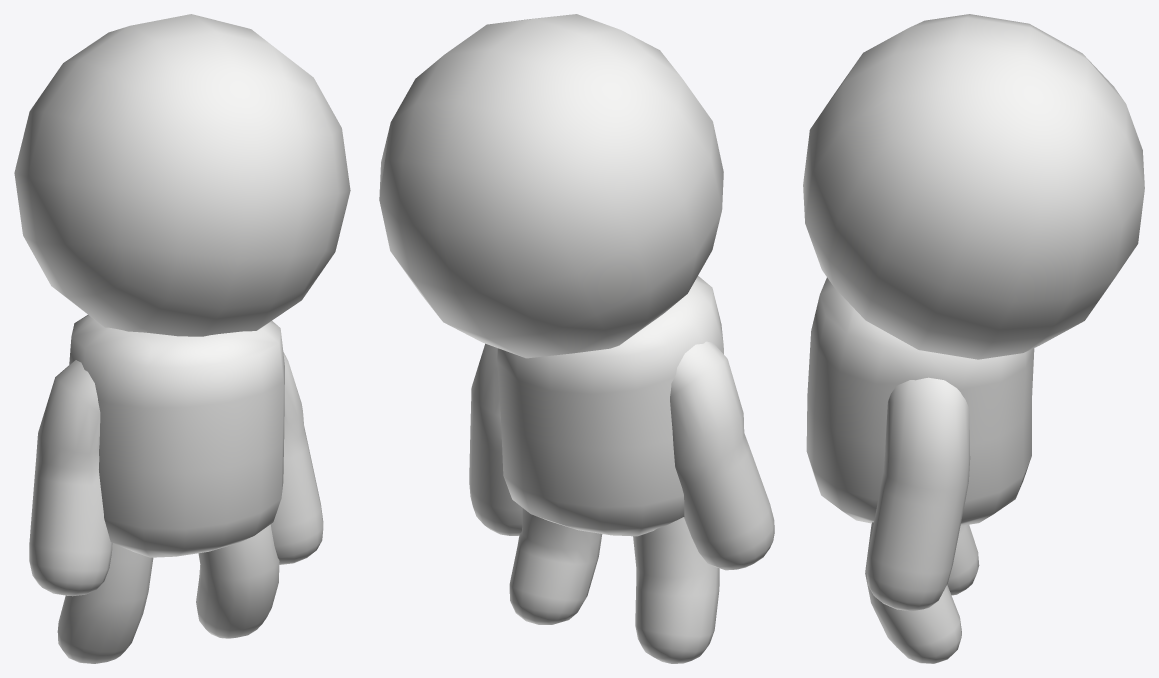
File: char.obj
The picture shows the model from 3 angles, left to right: view 1: azimuth 30°, elevation 25°; view 2: azimuth 150°, elevation 25°; view 3: azimuth 270°, elevation 25°; orthographic projection. The views are drawn at different scales.
Visible parts, largest first — view 1: Simple.Character_Cube.002; view 2: Simple.Character_Cube.002; view 3: Simple.Character_Cube.002.
Boxes of the visible parts, x1=… form: Simple.Character_Cube.002: x1=14, y1=14, x2=350, y2=663; Simple.Character_Cube.002: x1=379, y1=14, x2=774, y2=663; Simple.Character_Cube.002: x1=803, y1=14, x2=1144, y2=663.
Bounding box in the file's own units: 1.14 × 2 × 1.01.
